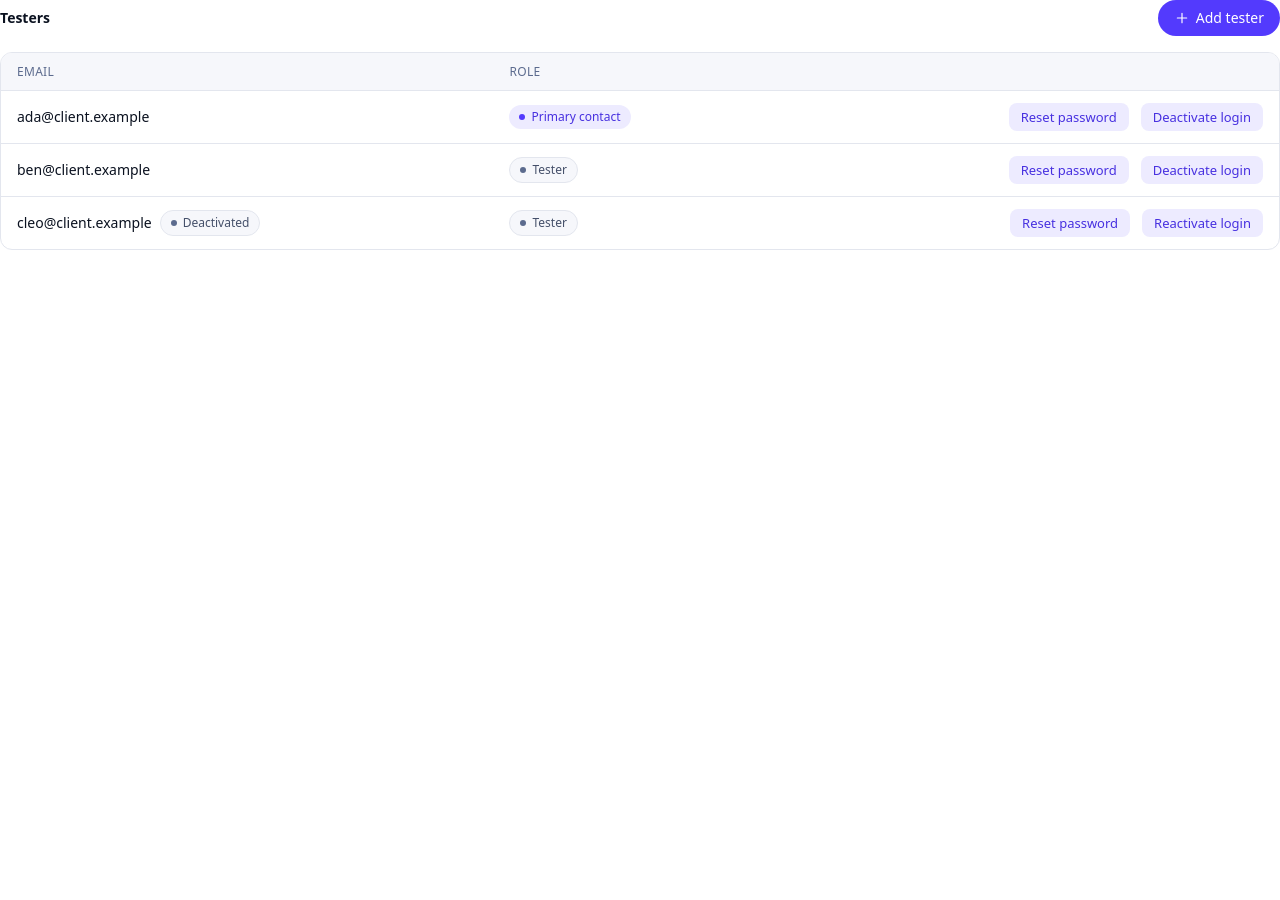
Test: ManagerTestersView deactivate and reactivate login › 404-shows-no-longer-exists-message
Click the button with aria-label "Deactivate login for ben@client.example": x=1202, y=170 x1=1141 y1=156 x2=1263 y2=184
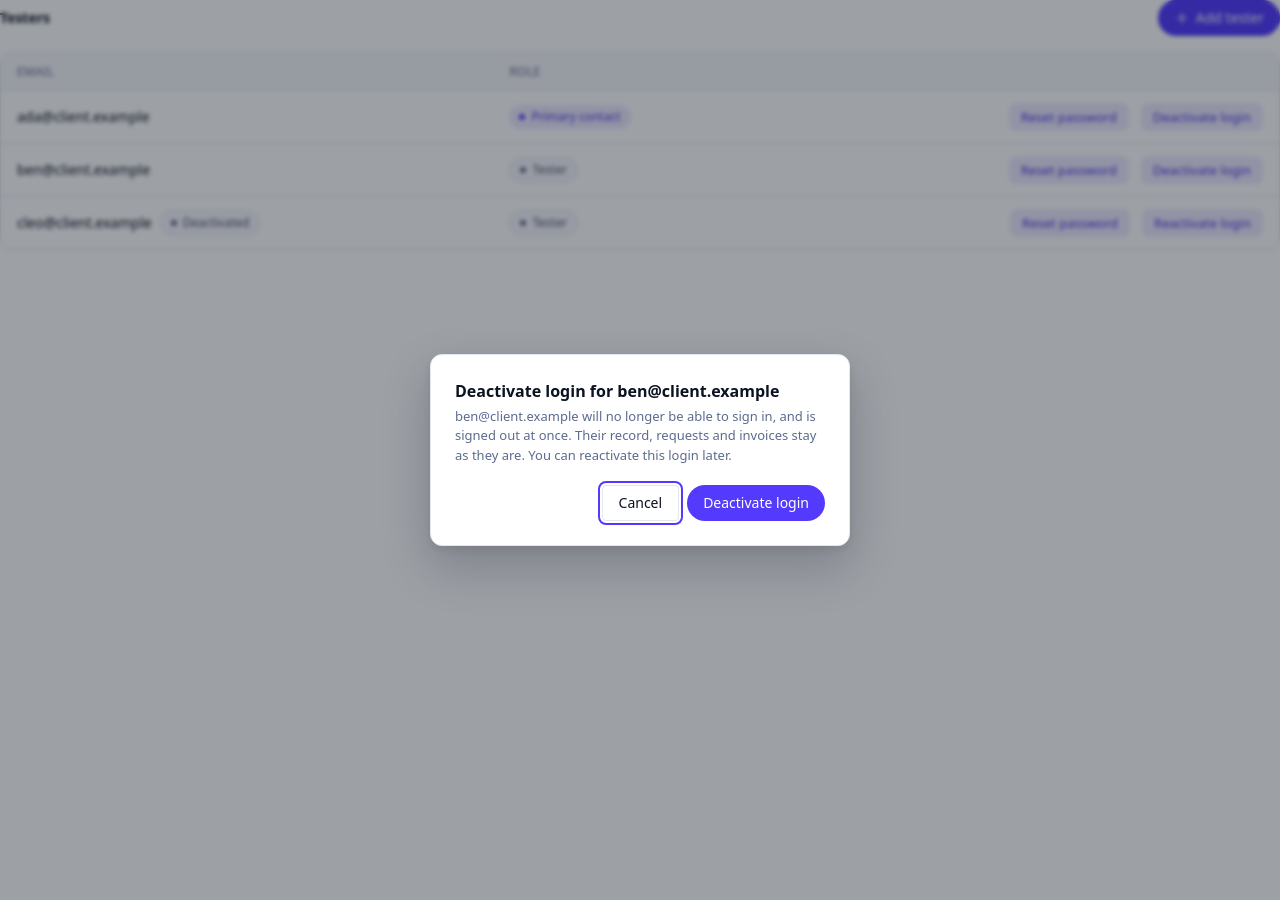
Click the button "Deactivate login": x=756, y=503 x1=687 y1=485 x2=825 y2=521
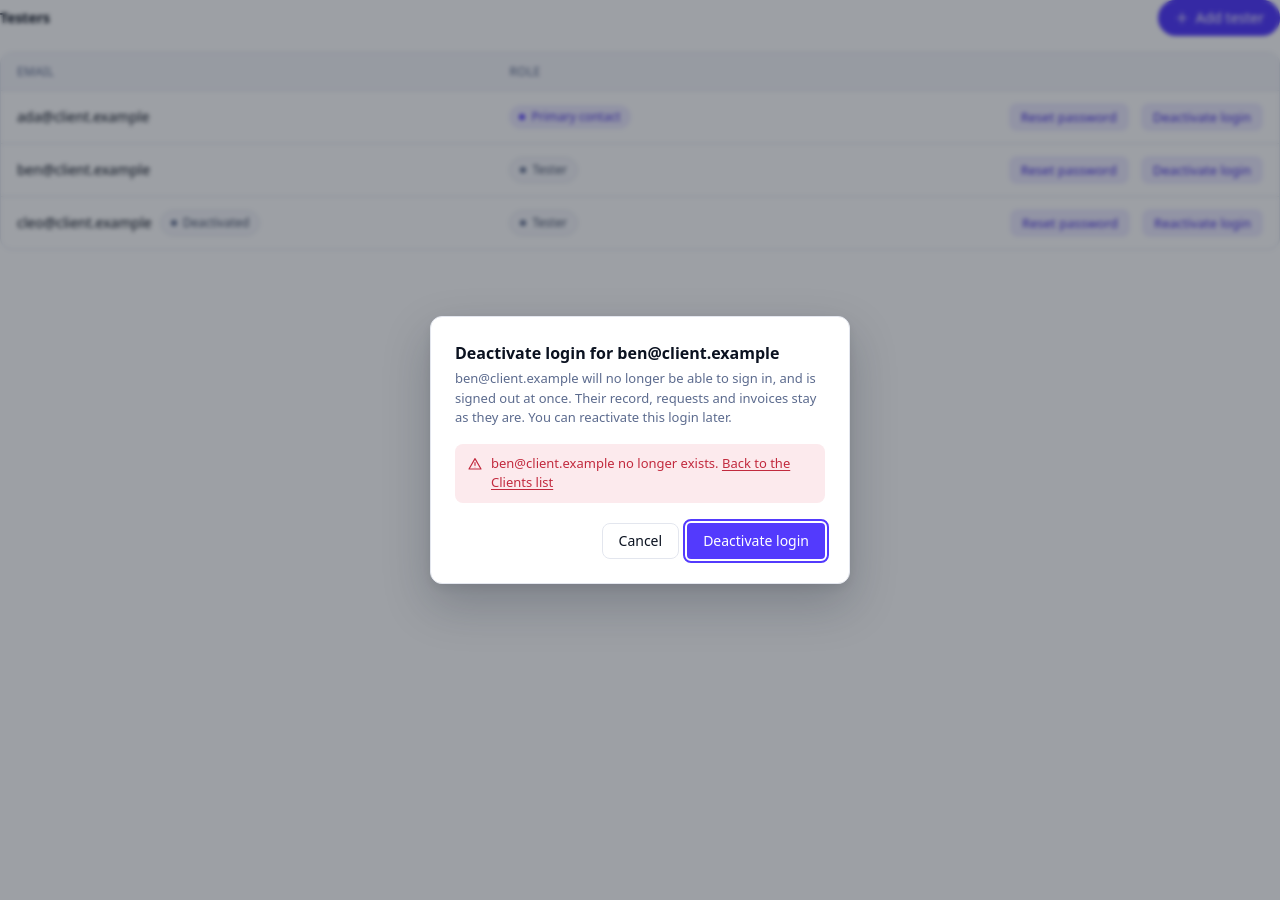
Result: the message shows "ben@client.example no longer exists." at x1=491 y1=454 x2=718 y2=472
